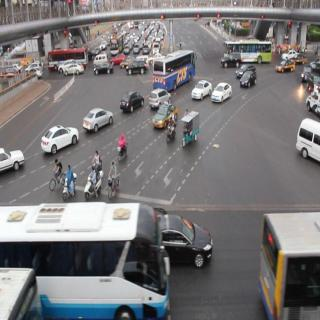BigCar: (0, 195, 176, 320), (153, 49, 196, 86), (240, 40, 273, 65), (47, 50, 89, 64)
Car: (157, 206, 214, 266), (41, 125, 79, 153), (80, 111, 114, 131), (121, 90, 144, 116), (212, 78, 231, 108), (191, 77, 211, 101), (148, 86, 172, 105), (152, 105, 172, 127), (125, 62, 146, 78), (239, 72, 255, 92), (220, 52, 239, 68), (275, 60, 295, 75), (92, 63, 114, 76), (63, 65, 85, 77), (112, 53, 124, 64), (132, 43, 140, 54), (144, 43, 150, 56)
